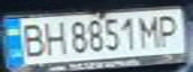1: (118, 15, 139, 51)
5: (103, 16, 124, 52)
8: (84, 17, 106, 53), (66, 17, 87, 54)
B: (15, 20, 48, 58)
H: (36, 19, 69, 56)
M: (136, 12, 163, 50)
P: (151, 11, 187, 48)
